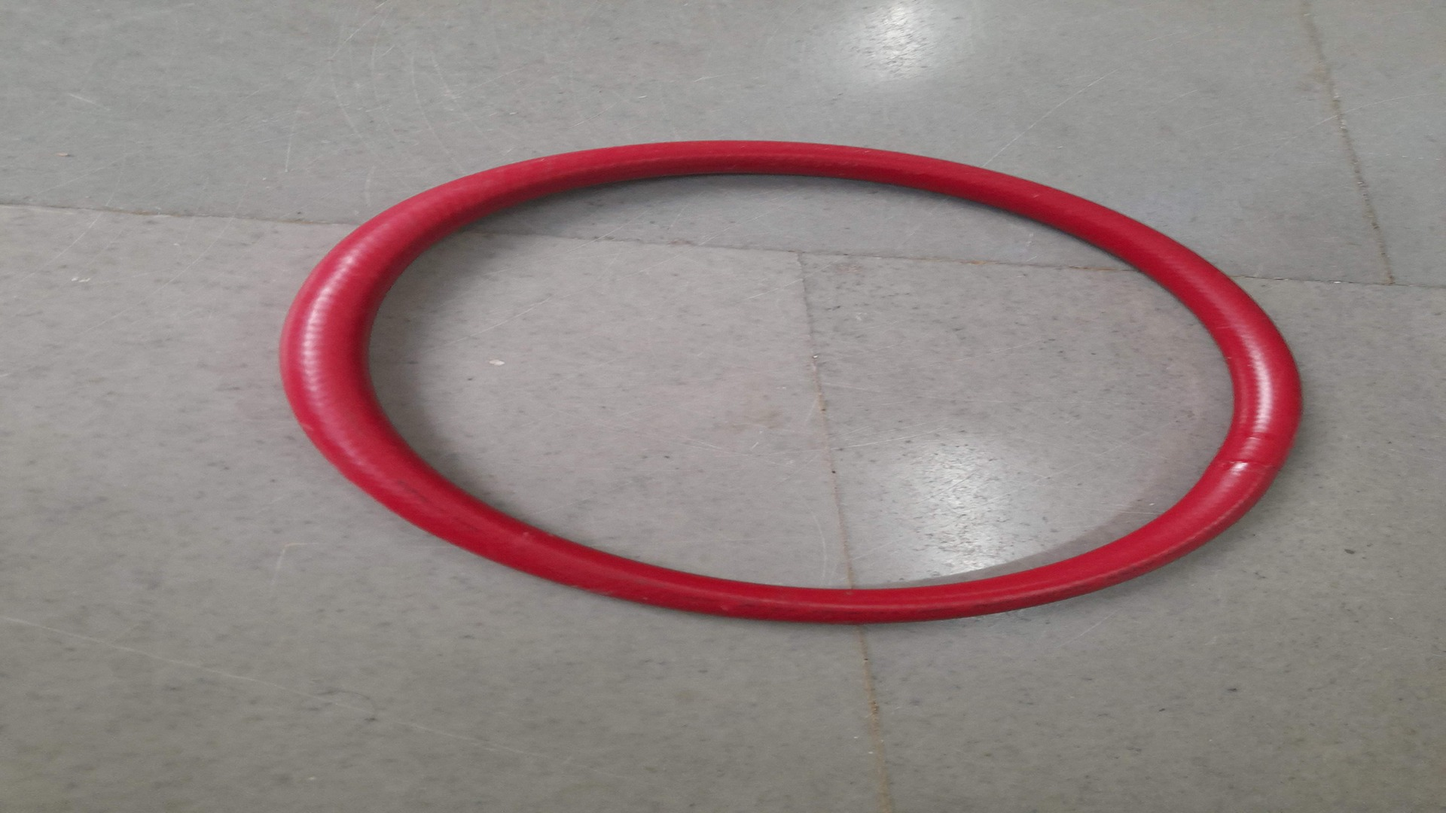Red ring: (274, 142, 1301, 626)
